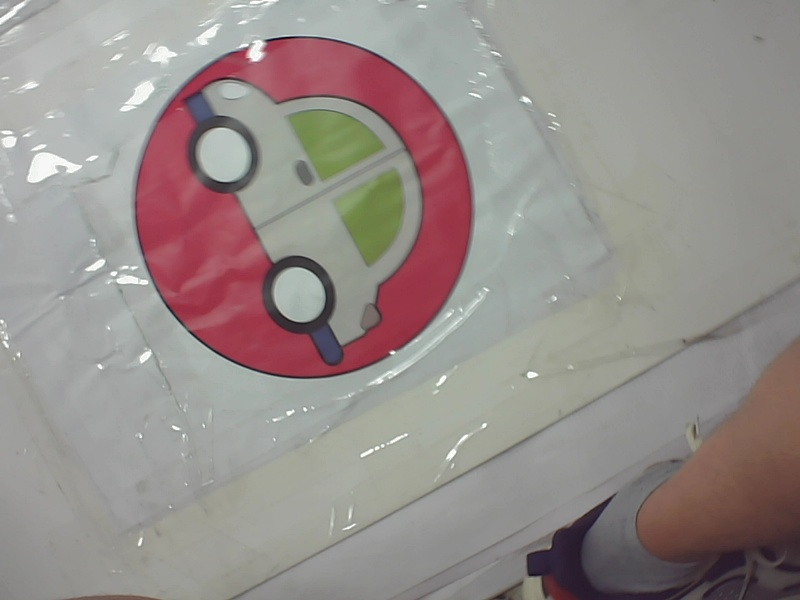areaC: (119, 33, 479, 380)
